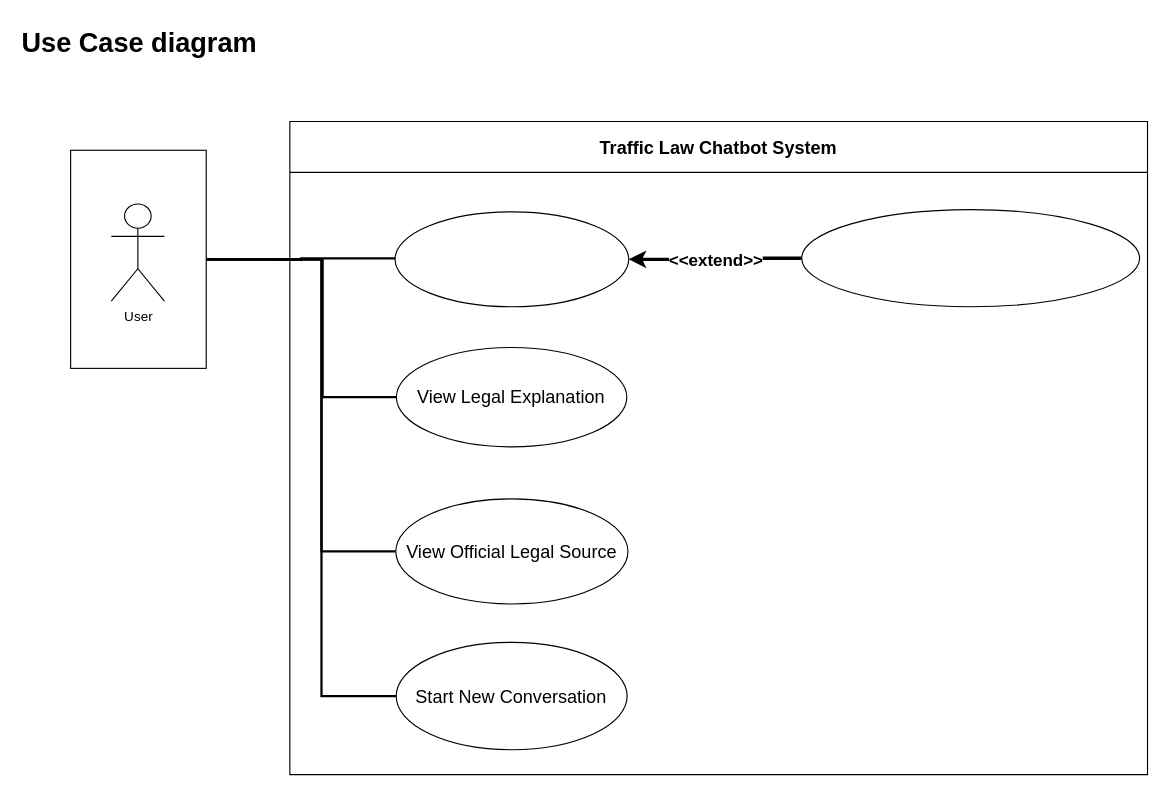
This 1167x794 diagram has some shape labels left out. Here are the shapes that lost their labels. From the top down, the centre of each, then its label:
point 511,259: Ask traffic law question
point 970,257: Provide Context (Text / Image / Video)
